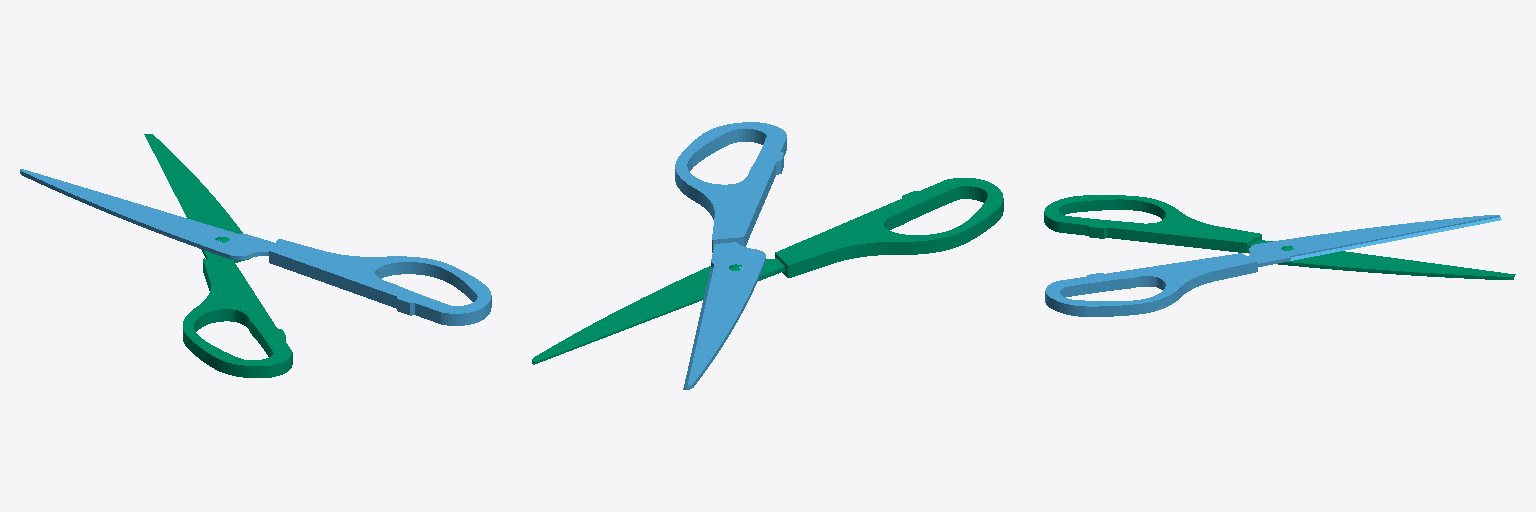
URDF robot description (partnet_3bba19a52cbe211cb458c00230942e4e):
<?xml version="1.0" ?>
<robot name="partnet_3bba19a52cbe211cb458c00230942e4e">
	<link name="base"/>
	<link name="link_0">
		<visual name="blade-6">
			<origin xyz="0.0698251662 0 -0.0034203225936"/>
			<geometry>
				<mesh filename="textured_objs/new-1.obj" scale="0.3 0.3 0.3"/>
			</geometry>
		</visual>
		<visual name="handle-7">
			<origin xyz="0.0698251662 0 -0.0034203225936"/>
			<geometry>
				<mesh filename="textured_objs/original-6.obj" scale="0.3 0.3 0.3"/>
			</geometry>
		</visual>
		<collision>
			<origin xyz="0.0698251662 0 -0.0034203225936"/>
			<geometry>
				<mesh filename="textured_objs/new-1.obj" scale="0.3 0.3 0.3"/>
			</geometry>
		</collision>
		<collision>
			<origin xyz="0.0698251662 0 -0.0034203225936"/>
			<geometry>
				<mesh filename="textured_objs/original-6.obj" scale="0.3 0.3 0.3"/>
			</geometry>
		</collision>
	</link>
	<joint name="joint_0" type="revolute">
		<!-- <origin xyz="-0.23275055403563558 0 0.011401075312618584"/> -->
		<origin xyz="-0.0698251662 0 0.0034203225936"/>
		<axis xyz="0 1 0"/>
		<child link="link_0"/>
		<parent link="link_1"/>
		<limit lower="-0.5969026041820605" upper="0.4"/>
	</joint>
	<link name="link_1">
		<visual name="screw-3">
			<origin xyz="0 0 0"/>
			<geometry>
				<mesh filename="textured_objs/new-0.obj" scale="0.3 0.3 0.3"/>
			</geometry>
		</visual>
		<visual name="screw-3">
			<origin xyz="0 0 0"/>
			<geometry>
				<mesh filename="textured_objs/new-2.obj" scale="0.3 0.3 0.3"/>
			</geometry>
		</visual>
		<visual name="blade-4">
			<origin xyz="0 0 0"/>
			<geometry>
				<mesh filename="textured_objs/new-3.obj" scale="0.3 0.3 0.3"/>
			</geometry>
		</visual>
		<visual name="handle-5">
			<origin xyz="0 0 0"/>
			<geometry>
				<mesh filename="textured_objs/original-3.obj" scale="0.3 0.3 0.3"/>
			</geometry>
		</visual>
		<collision>
			<origin xyz="0 0 0"/>
			<geometry>
				<mesh filename="textured_objs/new-0.obj" scale="0.3 0.3 0.3"/>
			</geometry>
		</collision>
		<collision>
			<origin xyz="0 0 0"/>
			<geometry>
				<mesh filename="textured_objs/new-2.obj" scale="0.3 0.3 0.3"/>
			</geometry>
		</collision>
		<collision>
			<origin xyz="0 0 0"/>
			<geometry>
				<mesh filename="textured_objs/new-3.obj" scale="0.3 0.3 0.3"/>
			</geometry>
		</collision>
		<collision>
			<origin xyz="0 0 0"/>
			<geometry>
				<mesh filename="textured_objs/original-3.obj" scale="0.3 0.3 0.3"/>
			</geometry>
		</collision>
	</link>
	<joint name="joint_1" type="fixed">
		<origin rpy="1.570796326794897 0 -1.570796326794897" xyz="0 0 0"/>
		<child link="link_1"/>
		<parent link="base"/>
	</joint>
</robot>

--- What the picture shows (computed from the rendered views, not written in the file) ---
3 views of the same robot in one strip: view 1: azimuth 30°, elevation 25°; view 2: azimuth 150°, elevation 25°; view 3: azimuth 270°, elevation 25° (orthographic).
Robot: partnet_3bba19a52cbe211cb458c00230942e4e — 3 links, 2 joints (1 revolute, 1 fixed); root link base; default pose: every joint at zero.
Visible links, largest first — view 1: link_0, link_1; view 2: link_1, link_0; view 3: link_0, link_1.
Link boxes in pixels (x1,y1,x2,y2): link_0: [20, 169, 491, 325]; link_1: [144, 134, 292, 377]; link_1: [532, 178, 1003, 364]; link_0: [675, 122, 786, 389]; link_0: [1045, 215, 1501, 316]; link_1: [1044, 195, 1515, 279].
Size in the robot's own frame: 0.2789 by 0.4827 by 0.0158 metres.
6 mesh visuals loaded from 6 distinct referenced files (6 OBJ).
